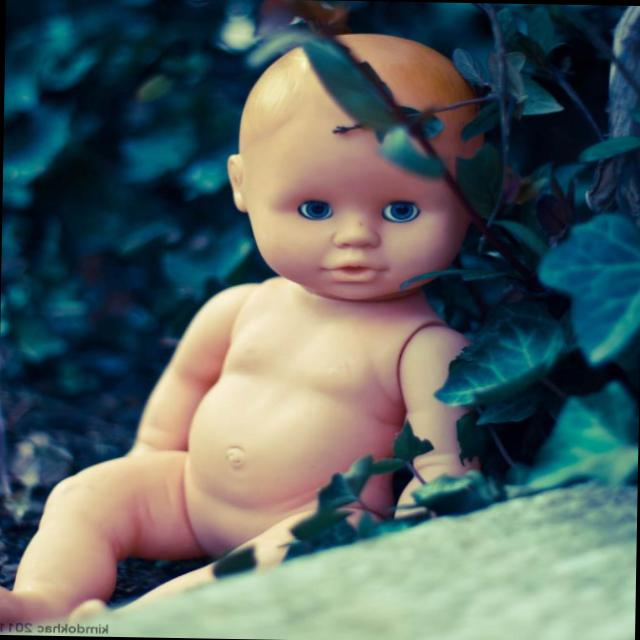Toy: (0, 26, 522, 640)
